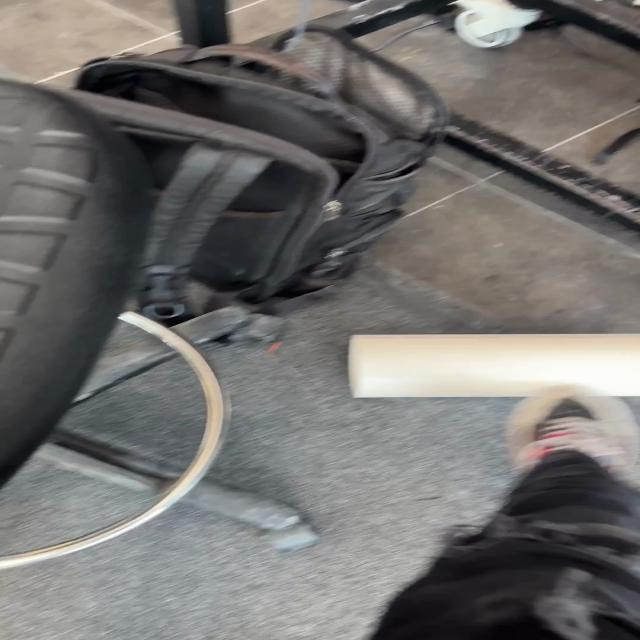Coral: (346, 332, 638, 399)
